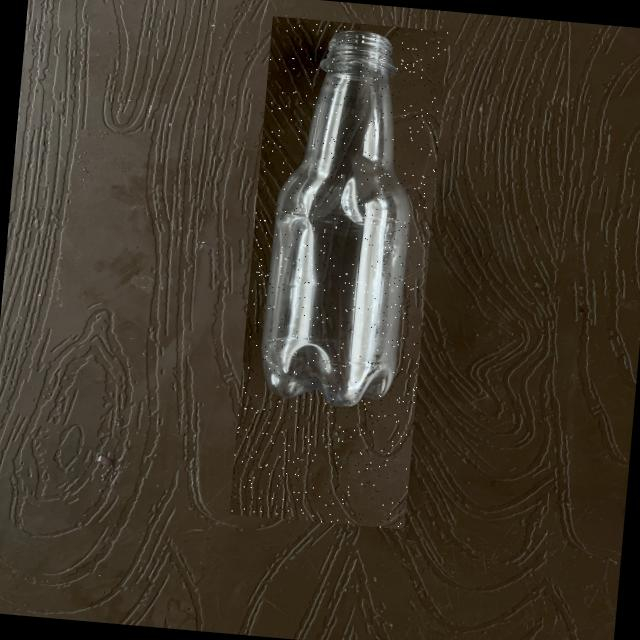PET_ClearBottle: (228, 15, 447, 528)
